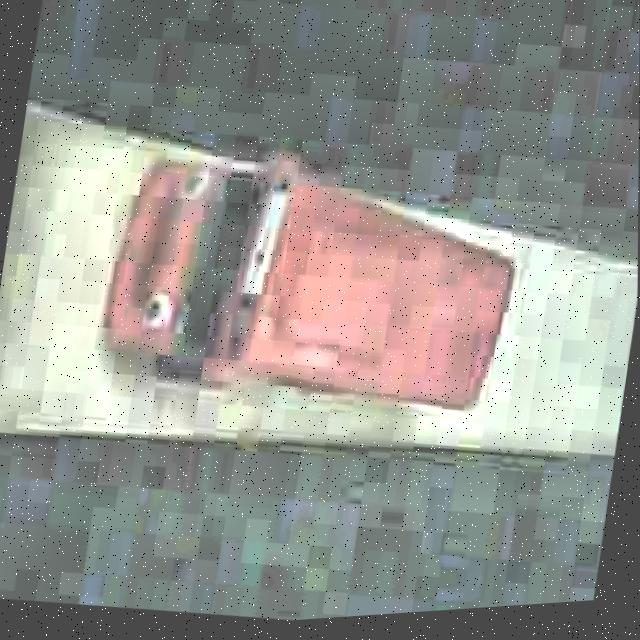bus: (91, 118, 531, 443)
